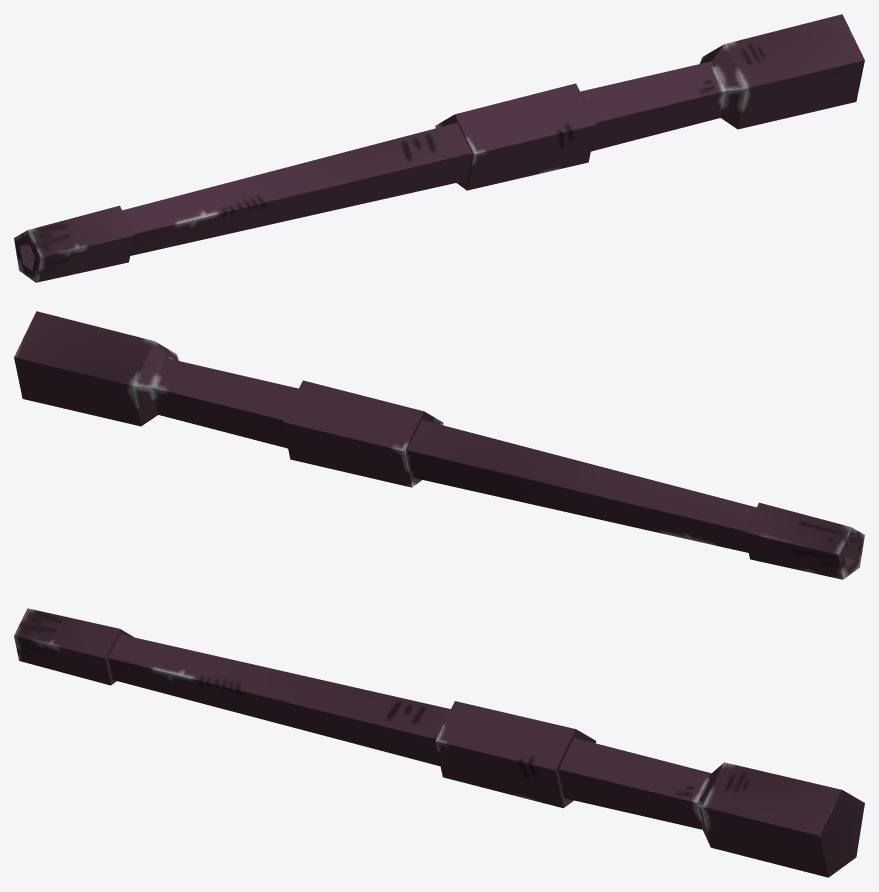
The model's file is StylizedTankBarrel.fbx.
The picture shows the model from 3 angles, top to bottom: view 1: azimuth 30°, elevation 25°; view 2: azimuth 150°, elevation 25°; view 3: azimuth 330°, elevation 25°; orthographic projection.
Parts seen in each view (by area): view 1: TankBody.002; view 2: TankBody.002; view 3: TankBody.002.
Part boxes in pixels (x1=…): TankBody.002: x1=14, y1=14, x2=864, y2=282; TankBody.002: x1=14, y1=311, x2=864, y2=579; TankBody.002: x1=14, y1=608, x2=864, y2=877.
Bounding box in the file's own units: 127 × 11.52 × 12.11.
